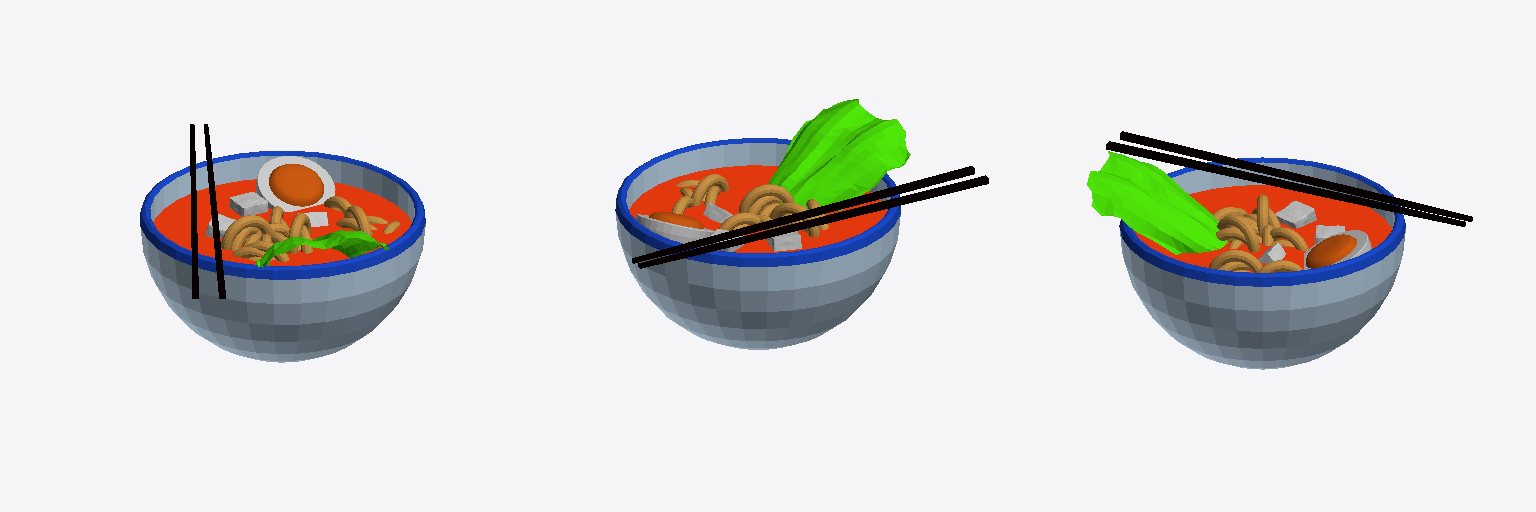
File: noodlebowl.obj
The picture shows the model from 3 angles: view 1: azimuth 30°, elevation 25°; view 2: azimuth 150°, elevation 25°; view 3: azimuth 270°, elevation 25°; orthographic projection.
Parts seen in each view (by area): view 1: Bowl_Sphere; view 2: Bowl_Sphere; view 3: Bowl_Sphere.
Boxes of the visible parts, box(x1,y1,x2,y2) form: Bowl_Sphere: box(140, 124, 425, 362); Bowl_Sphere: box(615, 99, 988, 349); Bowl_Sphere: box(1087, 131, 1472, 369).
Bounding box in the file's own units: 2.29 × 1.34 × 2.69.